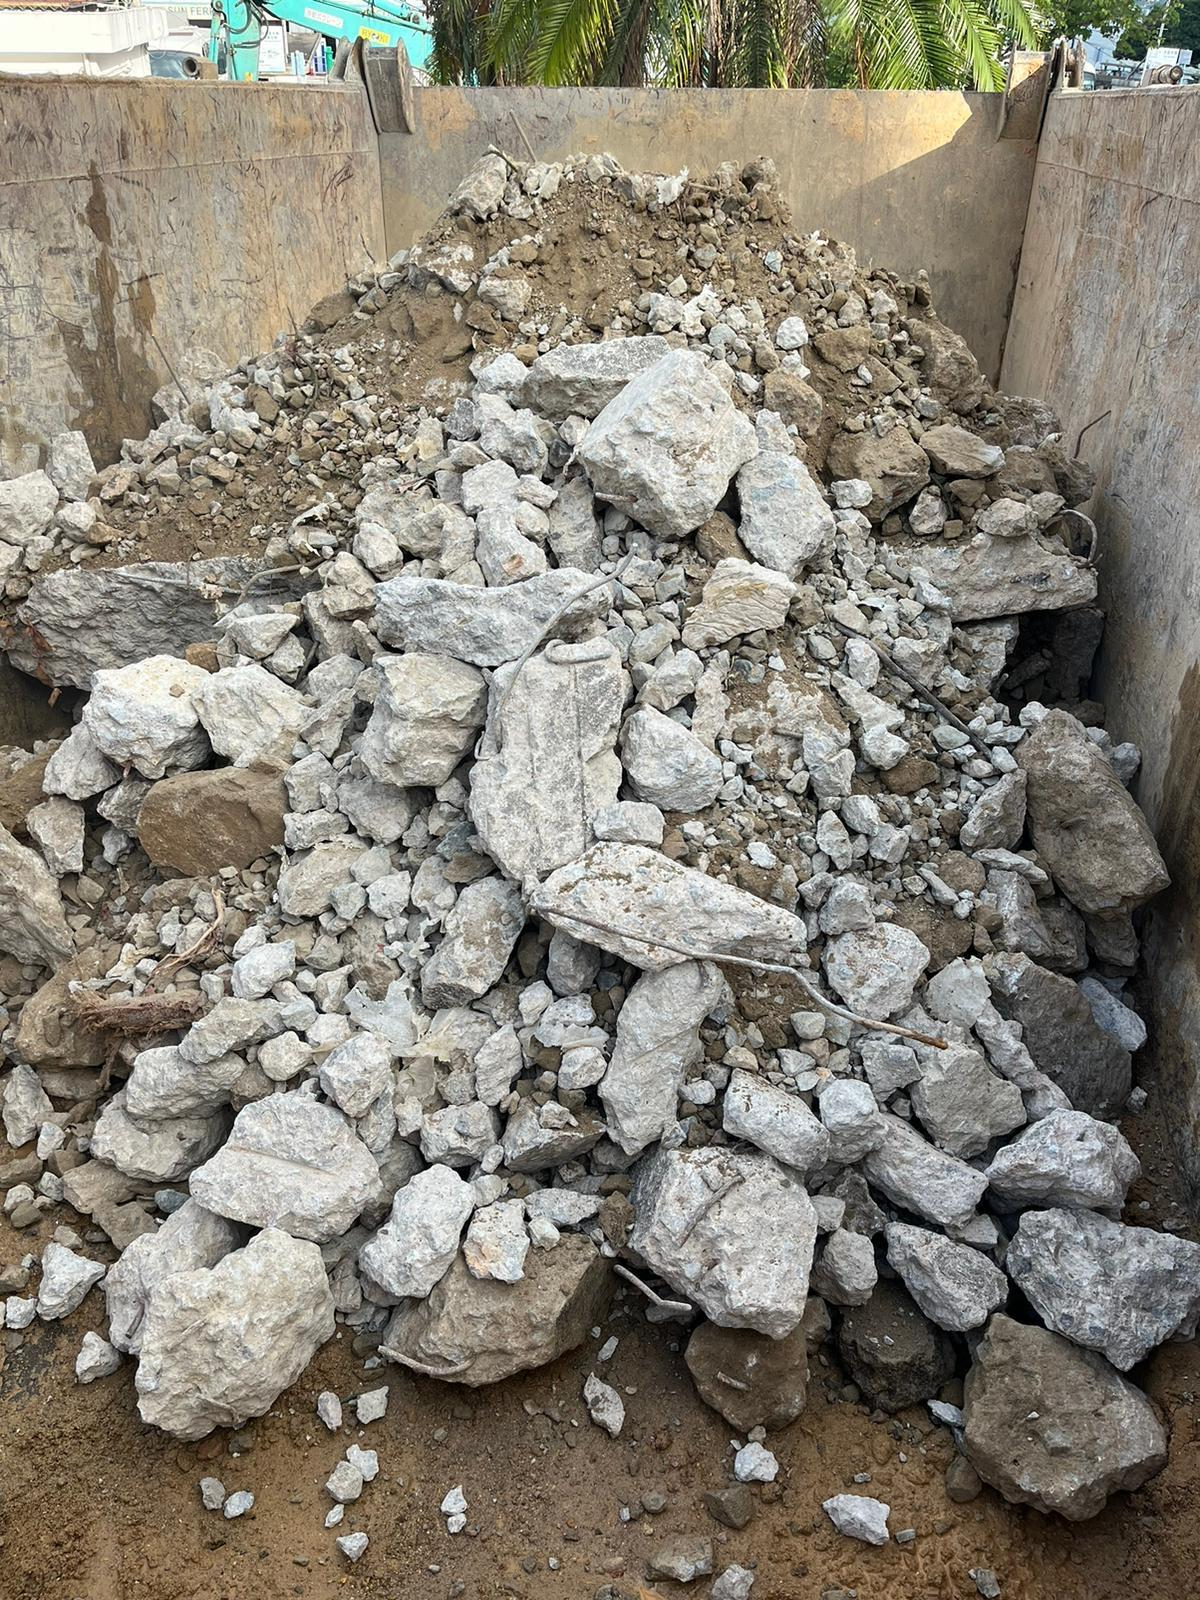dirt: (2, 143, 1196, 1596)
stone: (956, 1310, 1169, 1521), (132, 1225, 336, 1442), (626, 1141, 818, 1339), (572, 346, 759, 540)
